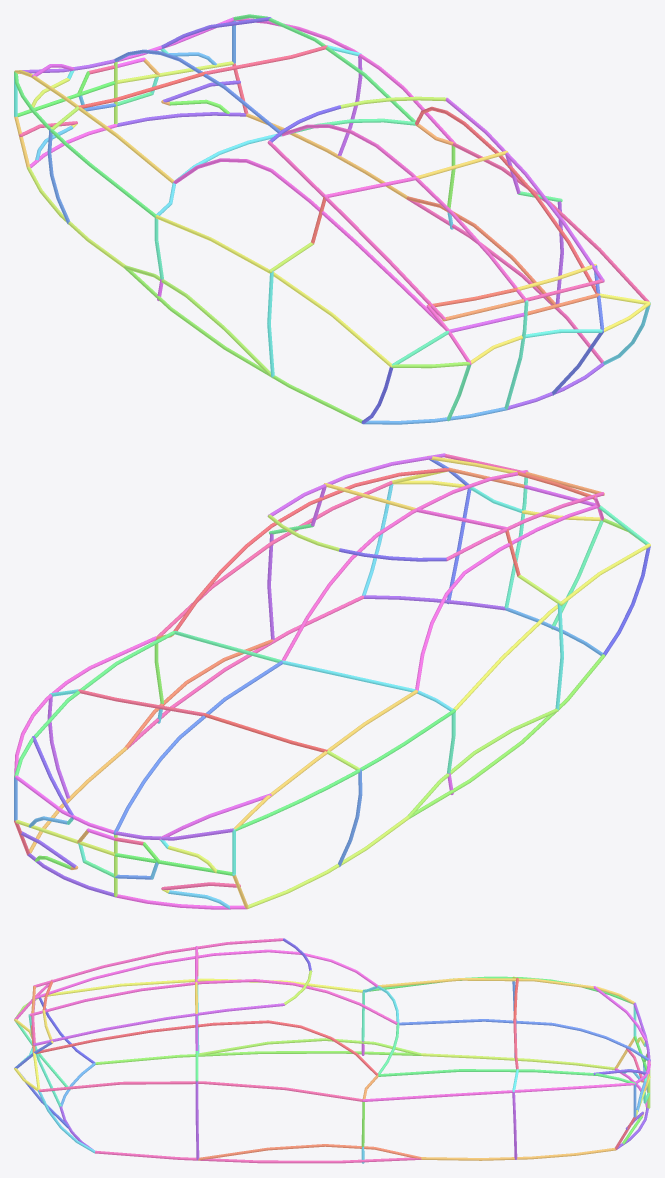
File: ils_car2.gltf
The picture shows the model from 3 angles, top to bottom: view 1: azimuth 30°, elevation 25°; view 2: azimuth 150°, elevation 25°; view 3: azimuth 270°, elevation 25°; orthographic projection. The views are drawn at different scales.
Size of the model in its own units: 0.3895 by 0.219 by 0.901.
